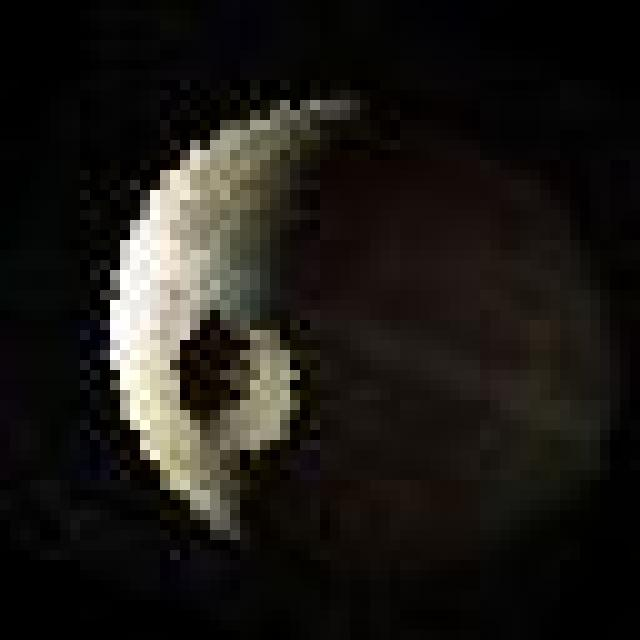Death Star: (107, 101, 618, 561)
